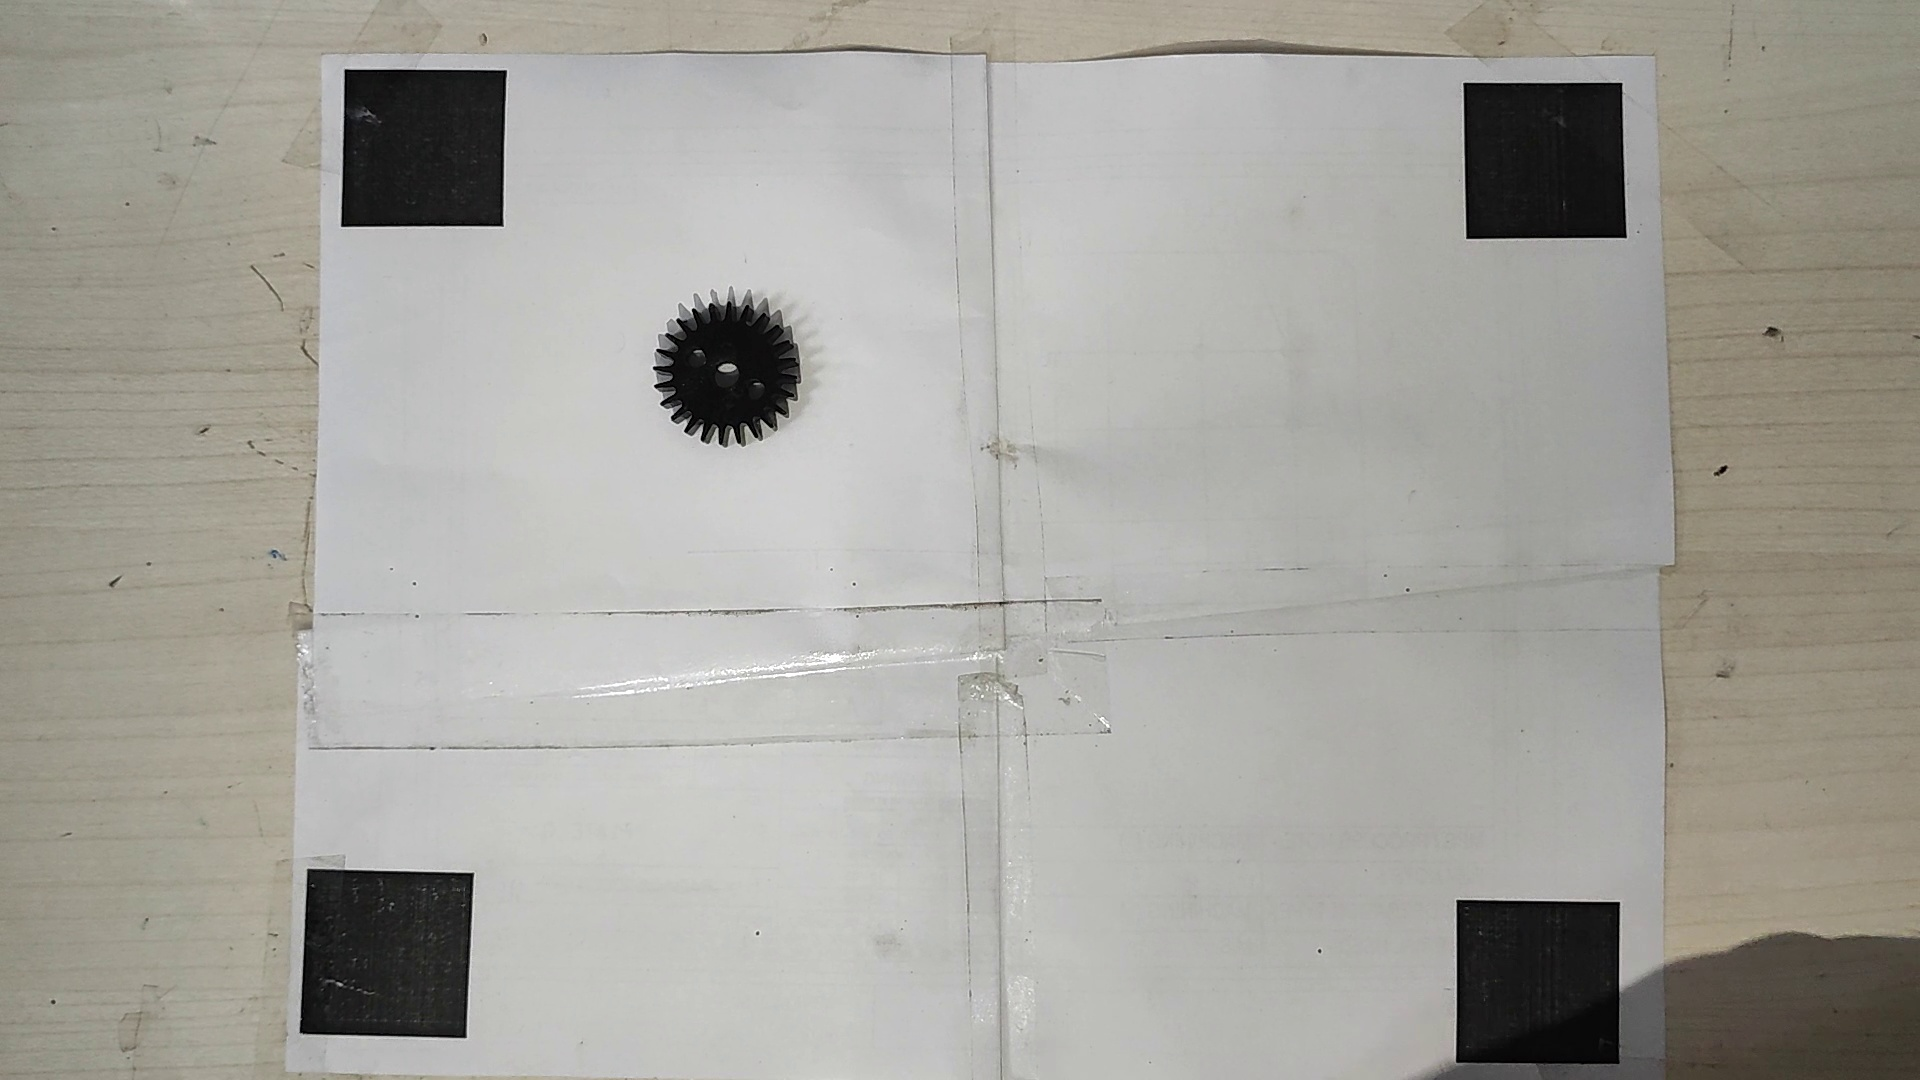Gear: (643, 296, 804, 449)
